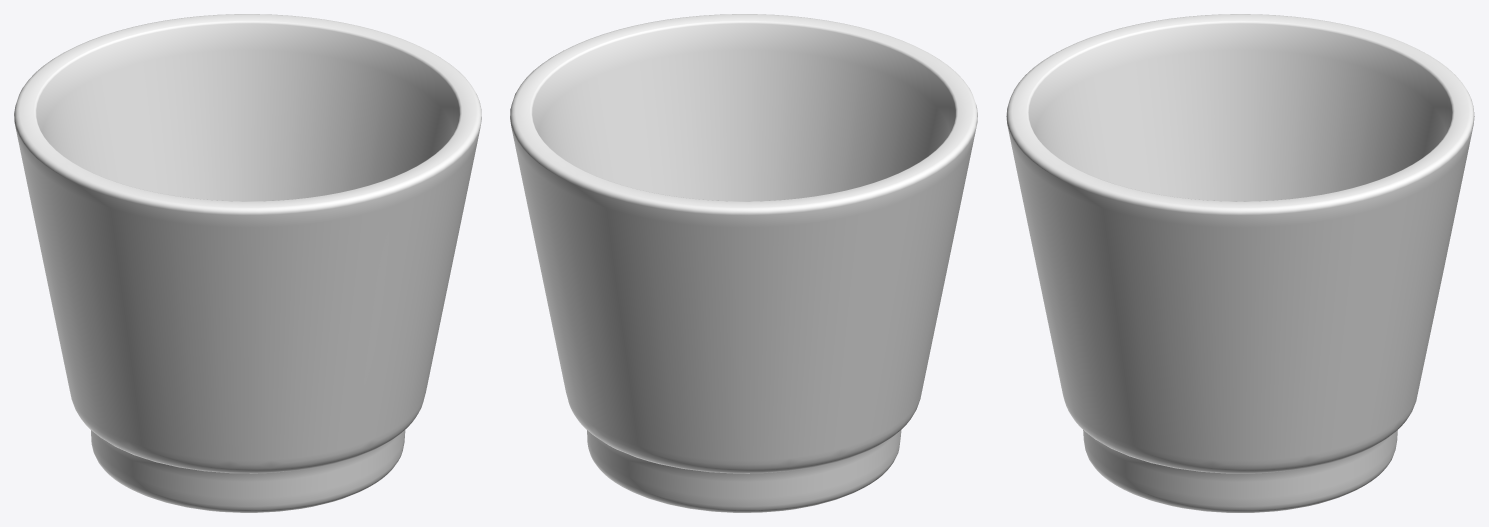
The model's file is galej_swiecznik_na_tealighty_36418000.glb.
3 renders of one model, left to right at view 1: azimuth 30°, elevation 25°; view 2: azimuth 150°, elevation 25°; view 3: azimuth 270°, elevation 25°, orthographic.
Visible parts, largest first — view 1: galej_swiecznik_na_tealighty_36418000; view 2: galej_swiecznik_na_tealighty_36418000; view 3: galej_swiecznik_na_tealighty_36418000.
Part boxes in pixels (x1,y1,x2,y2): galej_swiecznik_na_tealighty_36418000: [14, 14, 481, 512]; galej_swiecznik_na_tealighty_36418000: [510, 14, 977, 512]; galej_swiecznik_na_tealighty_36418000: [1006, 14, 1474, 512].
Size of the model in its own units: 0.075 by 0.06 by 0.075.
1 material, 1 textured.
